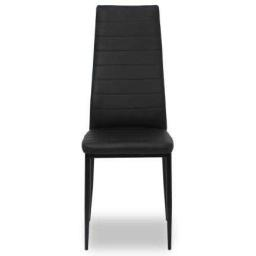Chair: (82, 3, 175, 251)
